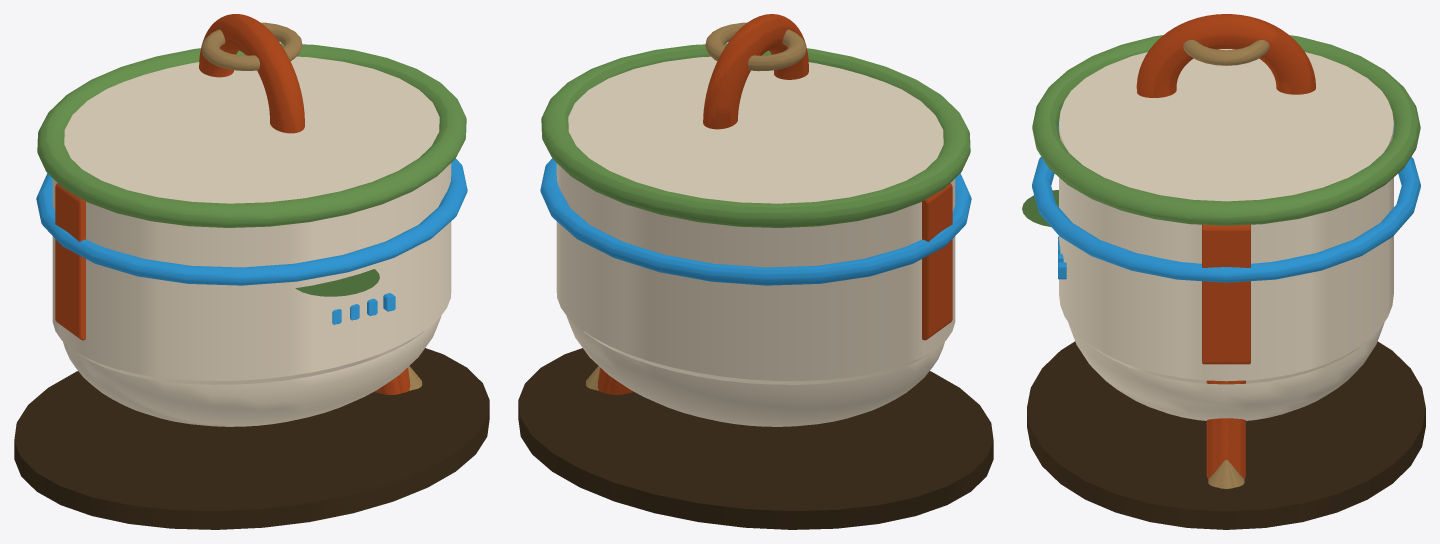
Rendered from 0264_世界古代文明图鉴_后母戊鼎.glb.
The picture shows the model from 3 angles, left to right: view 1: azimuth 30°, elevation 25°; view 2: azimuth 150°, elevation 25°; view 3: azimuth 270°, elevation 25°; orthographic projection.
Parts seen in each view (by area): view 1: card_0264; view 2: card_0264; view 3: card_0264.
Part boxes in pixels (x1,y1,x2,y2): card_0264: [14, 14, 489, 529]; card_0264: [518, 14, 993, 529]; card_0264: [1022, 14, 1425, 529].
Size of the model in its own units: 1.05 by 1 by 0.8626.
